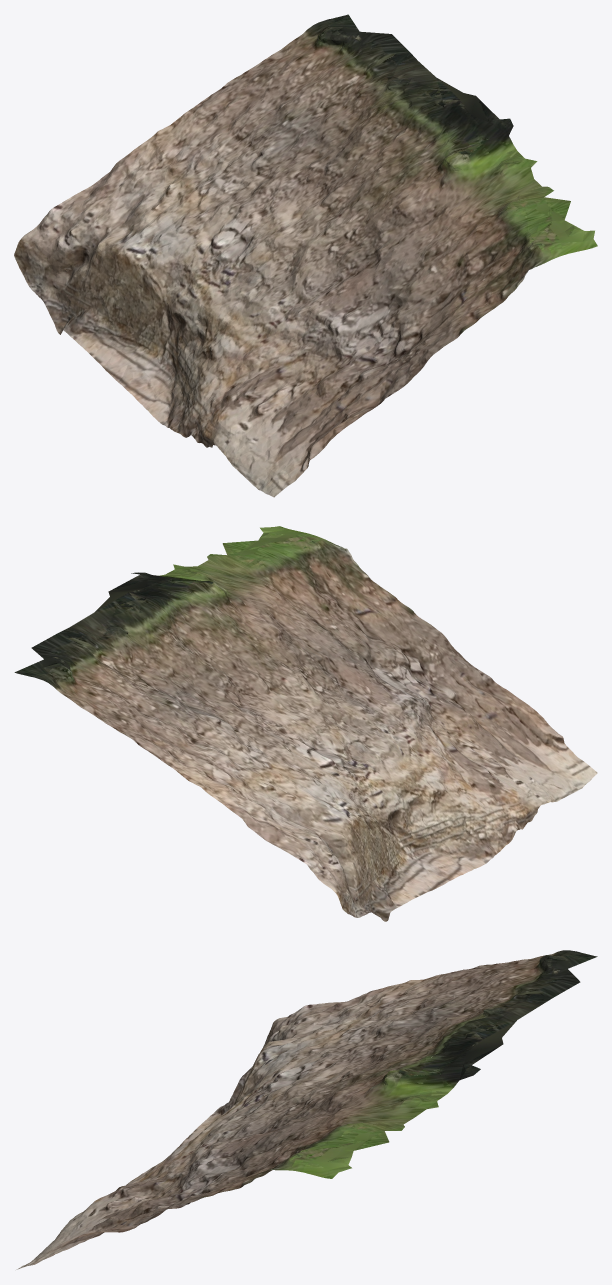
3 views of the same model, one above another, from view 1: azimuth 30°, elevation 25°; view 2: azimuth 150°, elevation 25°; view 3: azimuth 330°, elevation 25° (orthographic).
Size of the model in its own units: 3.99 by 2.4 by 5.05.
Materials: 2 (2 with a texture image).
